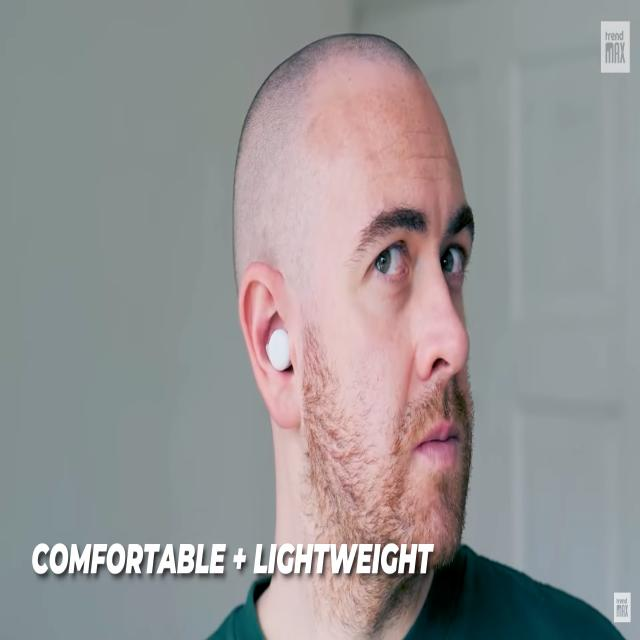airpods: (264, 324, 294, 376)
